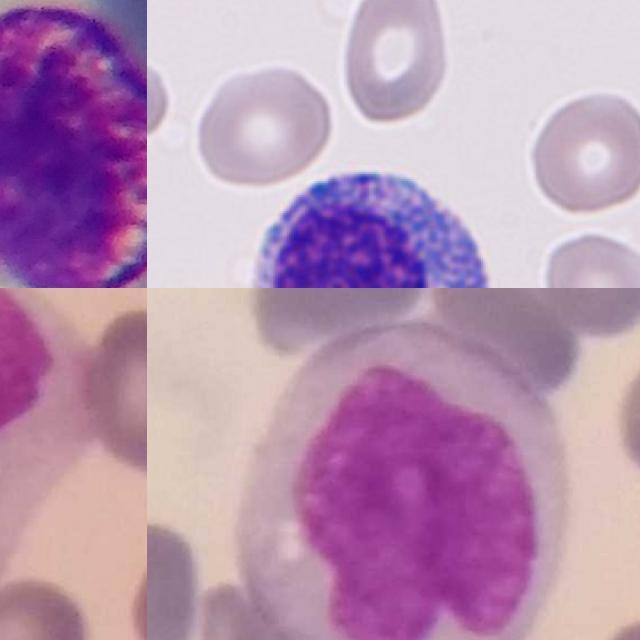Basophil: (0, 7, 147, 288)
Lymphocyte: (234, 156, 506, 288)
Monocyte: (236, 321, 575, 640), (0, 288, 97, 593)
RBC: (191, 58, 335, 192), (525, 86, 640, 218), (336, 0, 454, 127), (539, 227, 640, 288), (147, 29, 173, 152)
